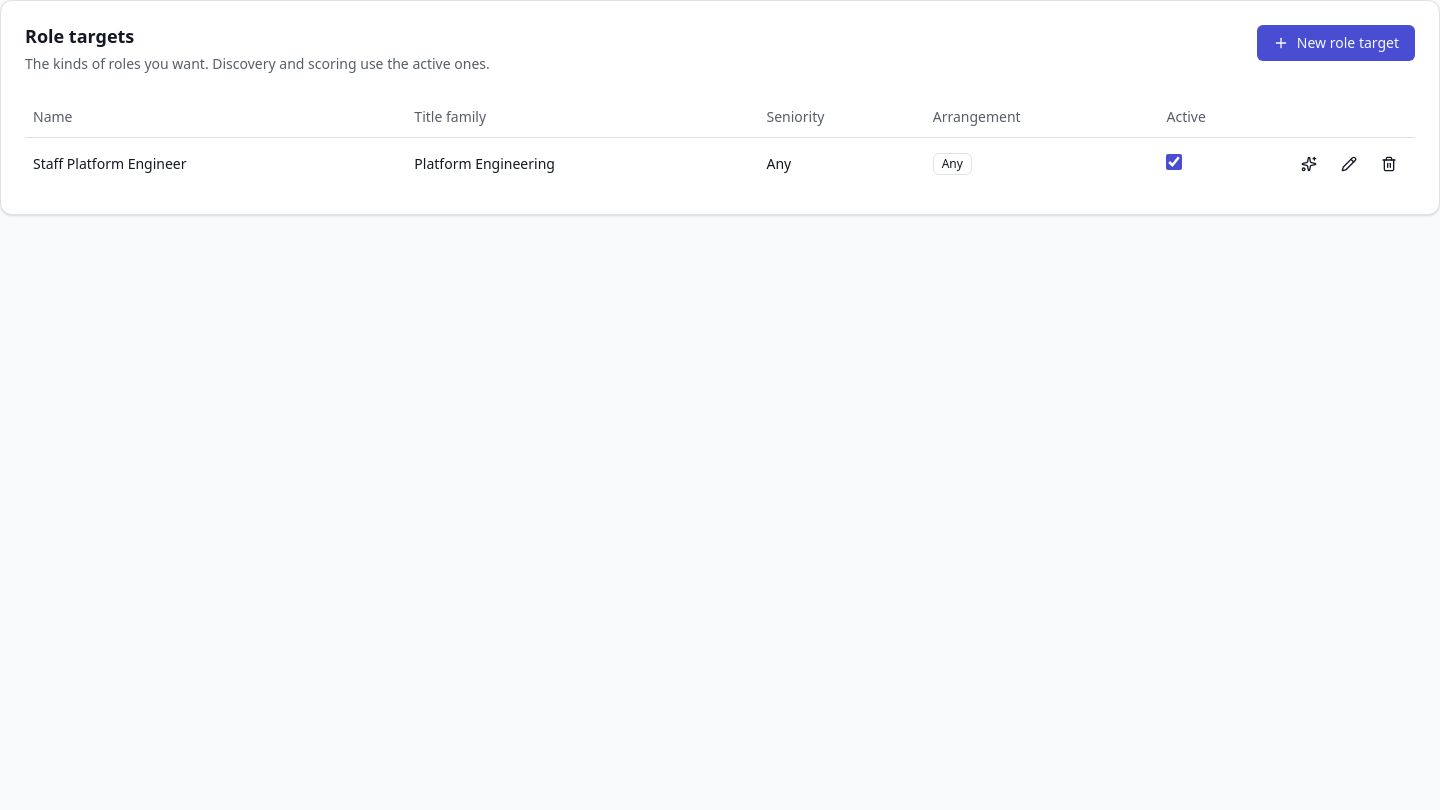
RoleTargetsSettings delete (issue #74) › deletes only after confirmation, and closes the dialog once the server has actually removed it
Click the button named "Delete Staff Platform Engineer".
click(1389, 164)  # box x1=1371 y1=146 x2=1407 y2=182
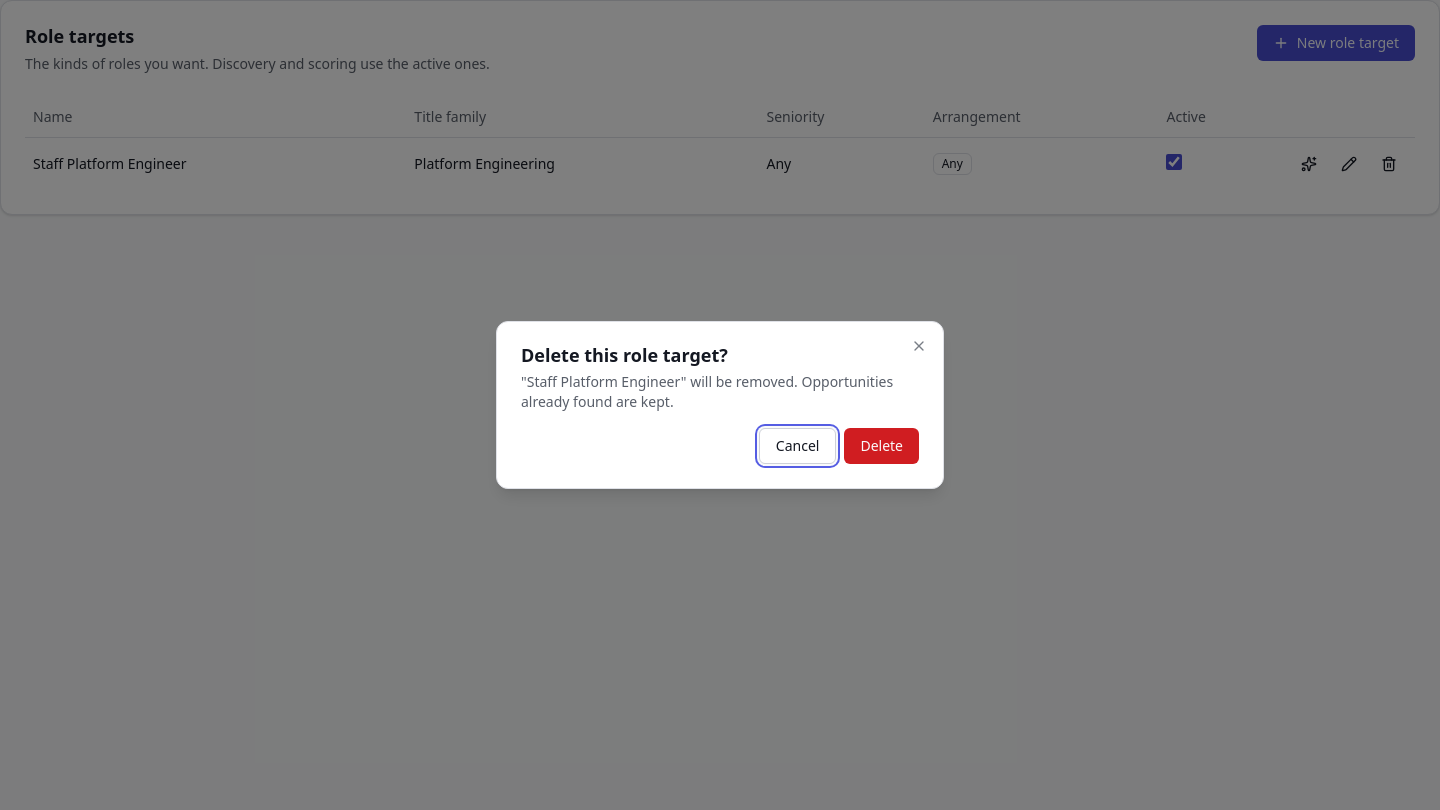
Click the button "Delete".
click(882, 446)  # box x1=844 y1=428 x2=919 y2=464
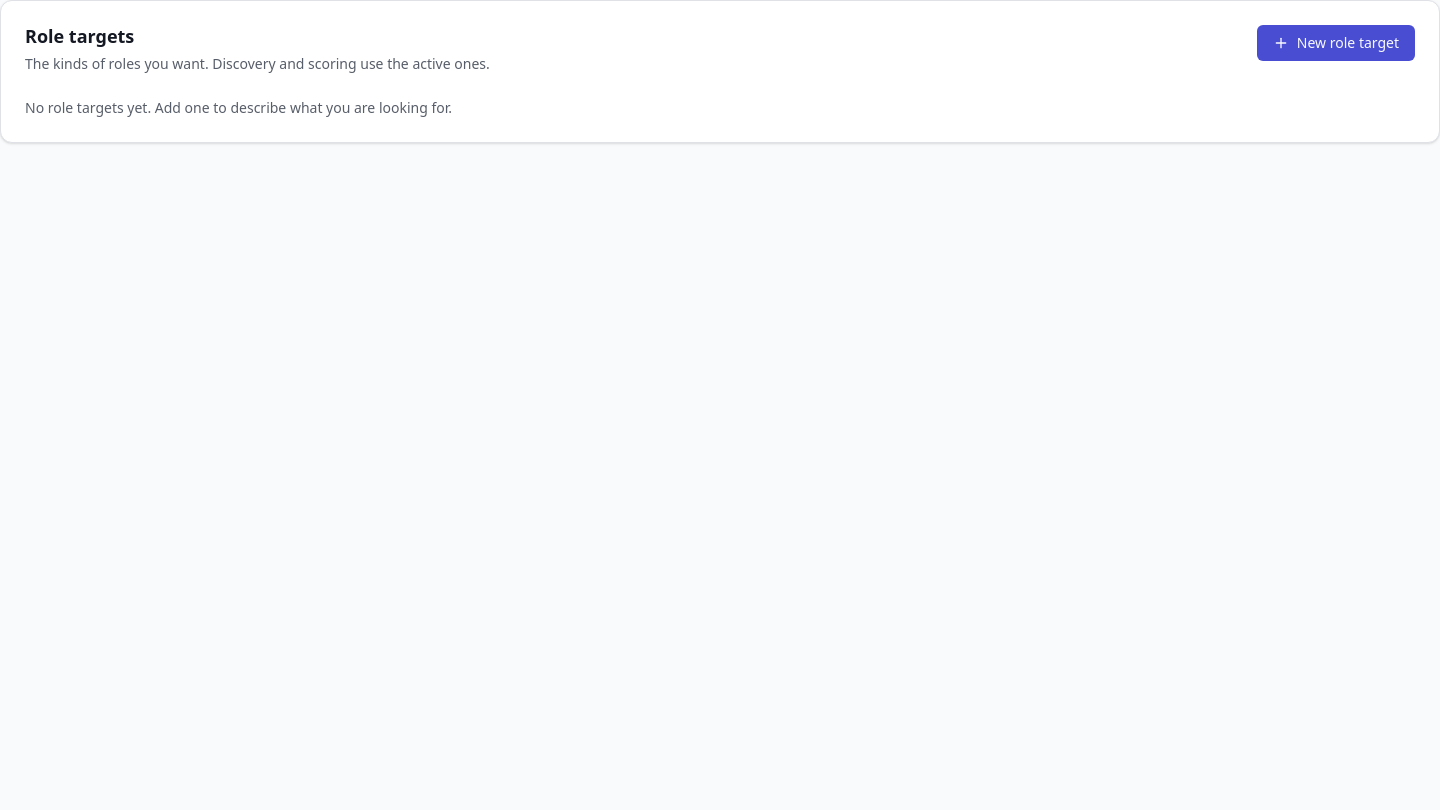
Check: the text "No role targets yet." is shown, box x1=25 y1=98 x2=452 y2=116
Check: the dialog is gone
